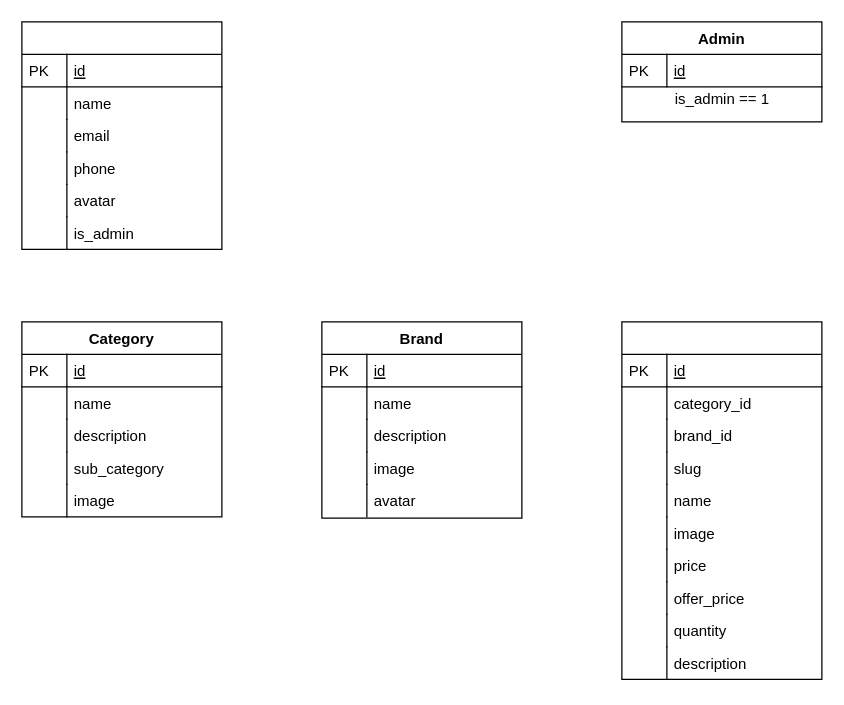
The diagram is 844 pixels wide and 705 high, and some of its shapes have lost their labels. The shapes that lost their labels are listed below. From the top down, each one's box as (x1, y1, x2, y2) in pixels, then its label:
(21, 21, 222, 249): User
(621, 321, 822, 679): Product
